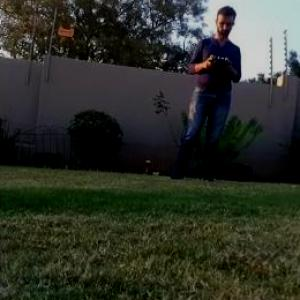follow: (164, 0, 246, 187)
